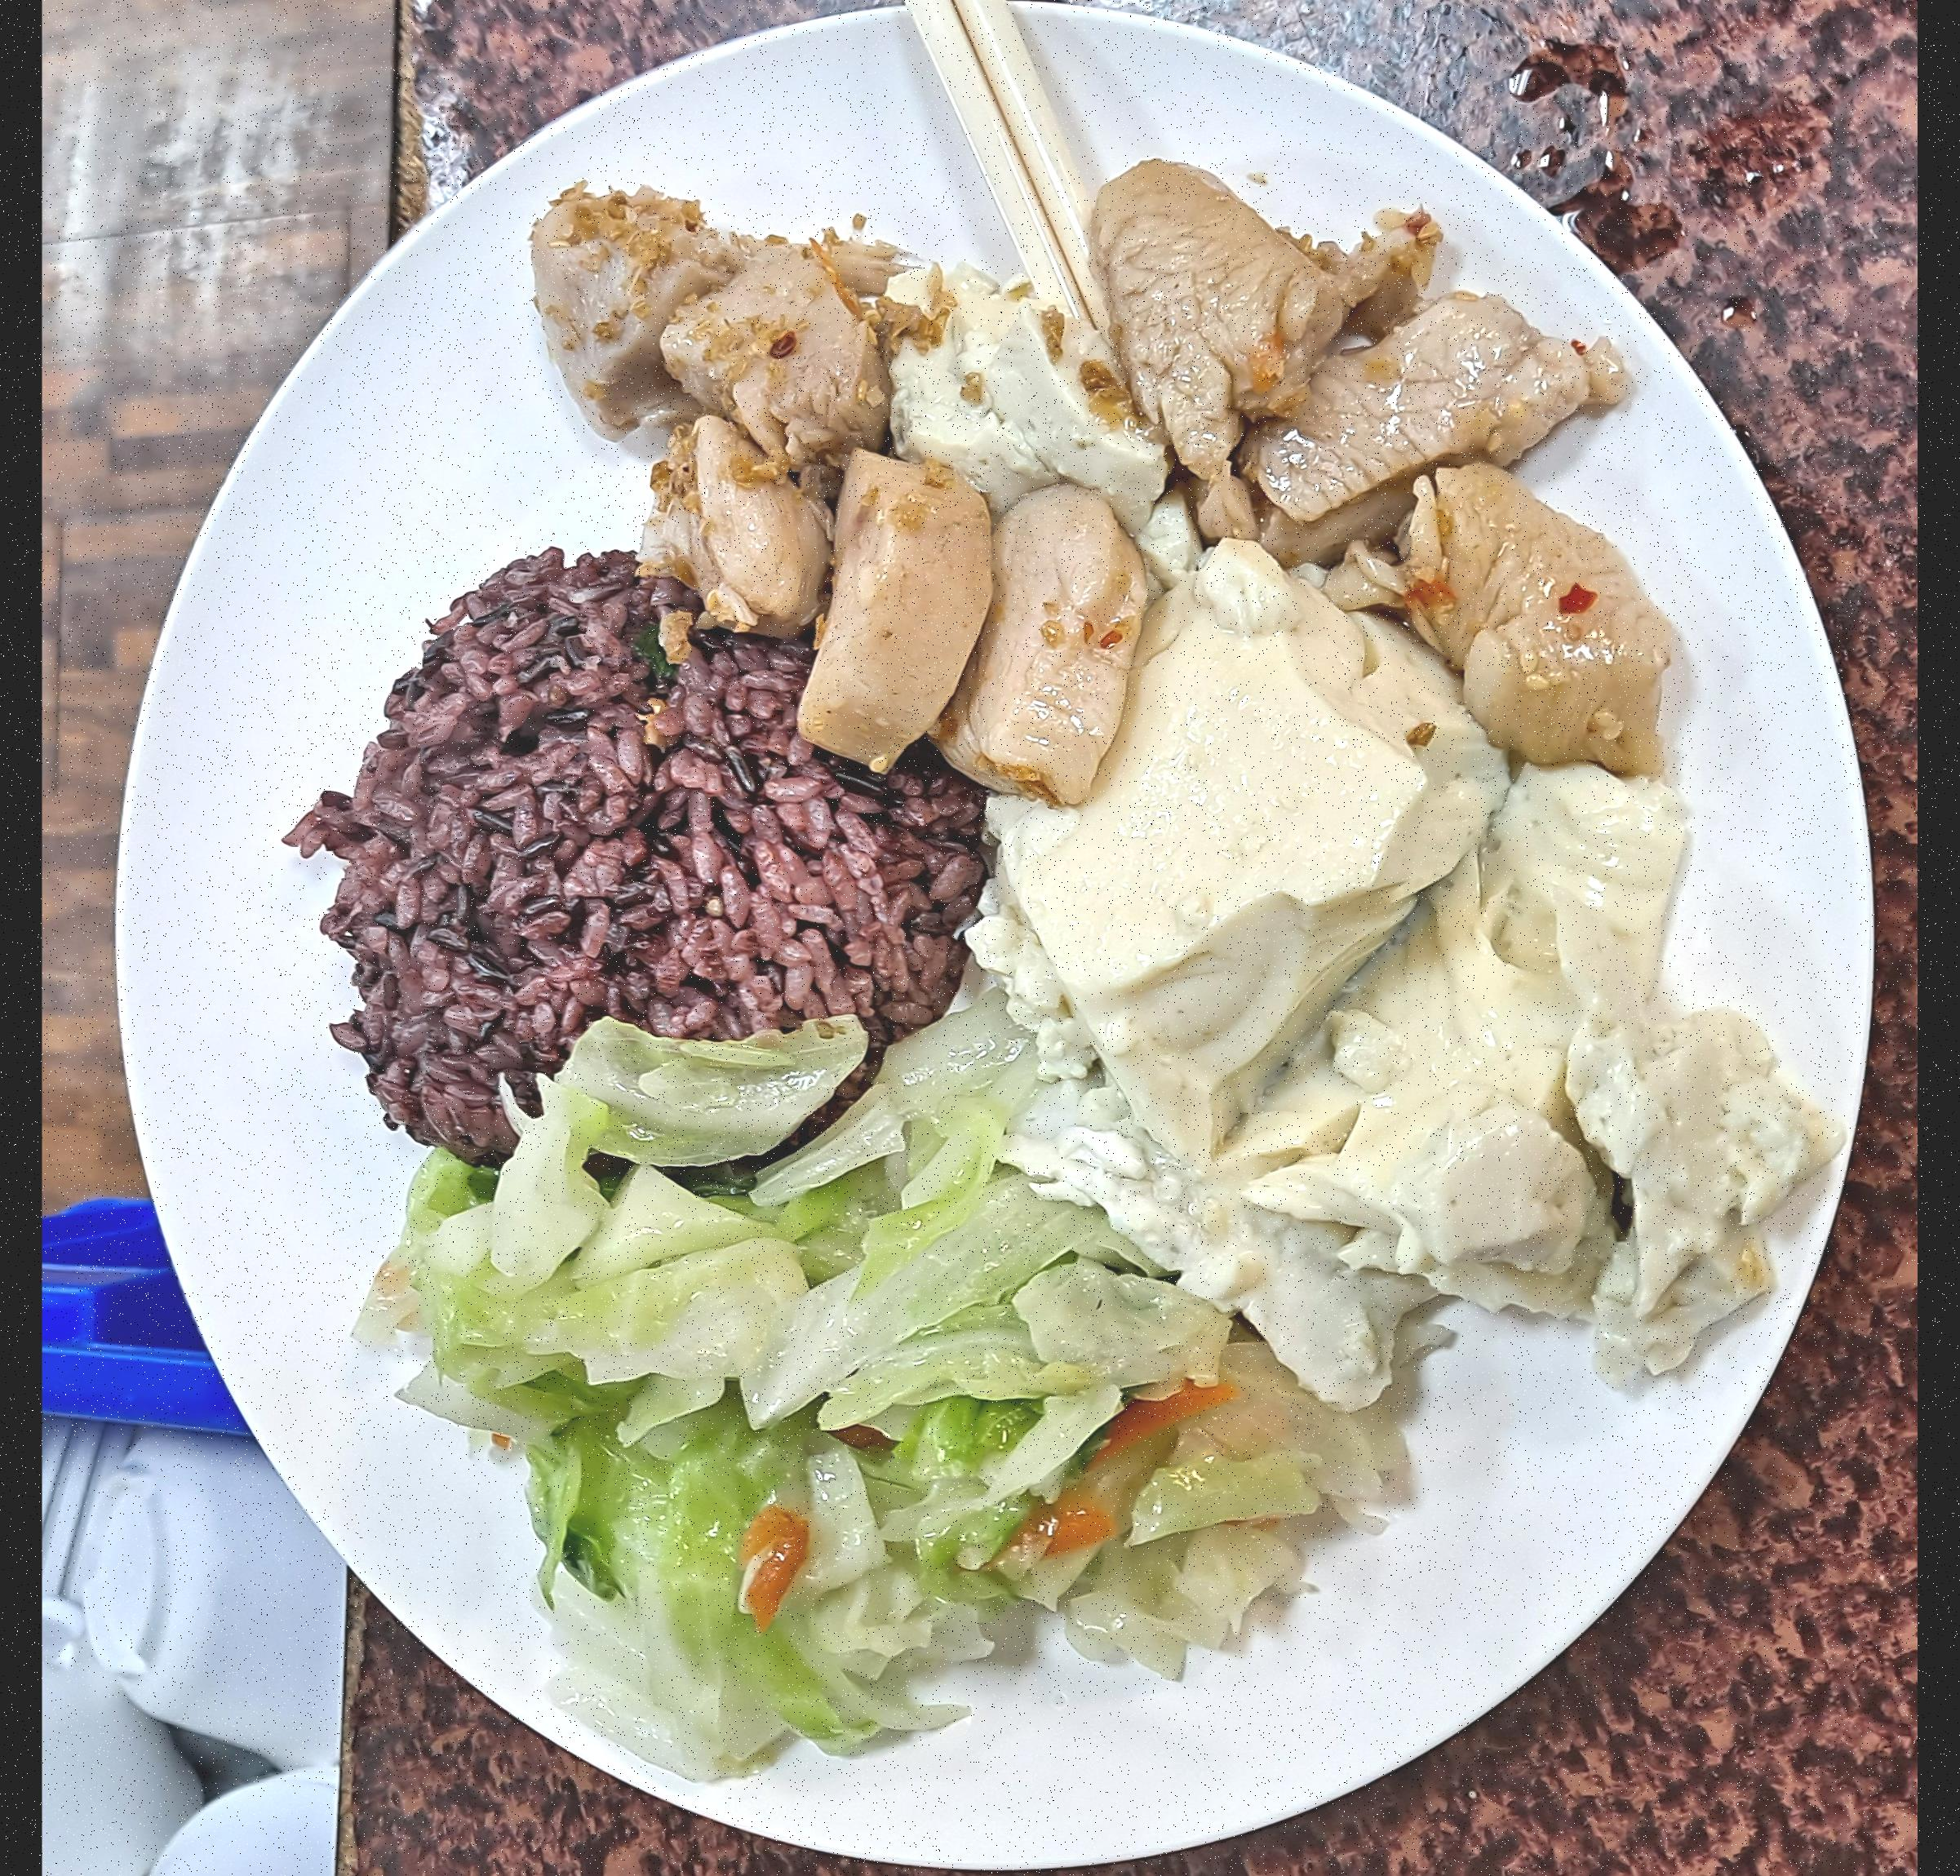big fried chicken leg: (101, 0, 1596, 1610)
braised fish: (283, 465, 835, 1017)
braised fish fillet: (317, 891, 1137, 1496), (854, 506, 1538, 1174)
braised pork: (446, 94, 1444, 686)
